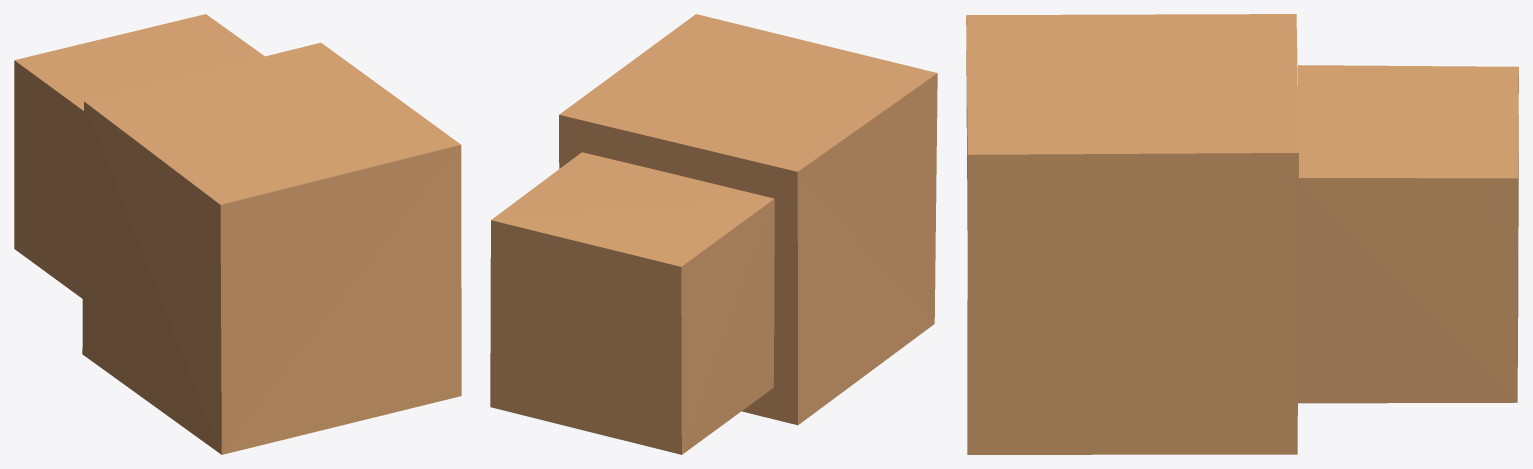
File: CopperIngot.fbx
3 renders of one model, left to right at view 1: azimuth 30°, elevation 25°; view 2: azimuth 150°, elevation 25°; view 3: azimuth 270°, elevation 25°, orthographic. The views are drawn at different scales.
Parts seen in each view (by area): view 1: fam_copper; view 2: fam_copper; view 3: fam_copper.
Part boxes in pixels (bbox=[...]): fam_copper: bbox=[14, 14, 461, 454]; fam_copper: bbox=[490, 14, 937, 454]; fam_copper: bbox=[966, 14, 1518, 454].
Bounding box in the file's own units: 3.52 × 3.53 × 5.85.
